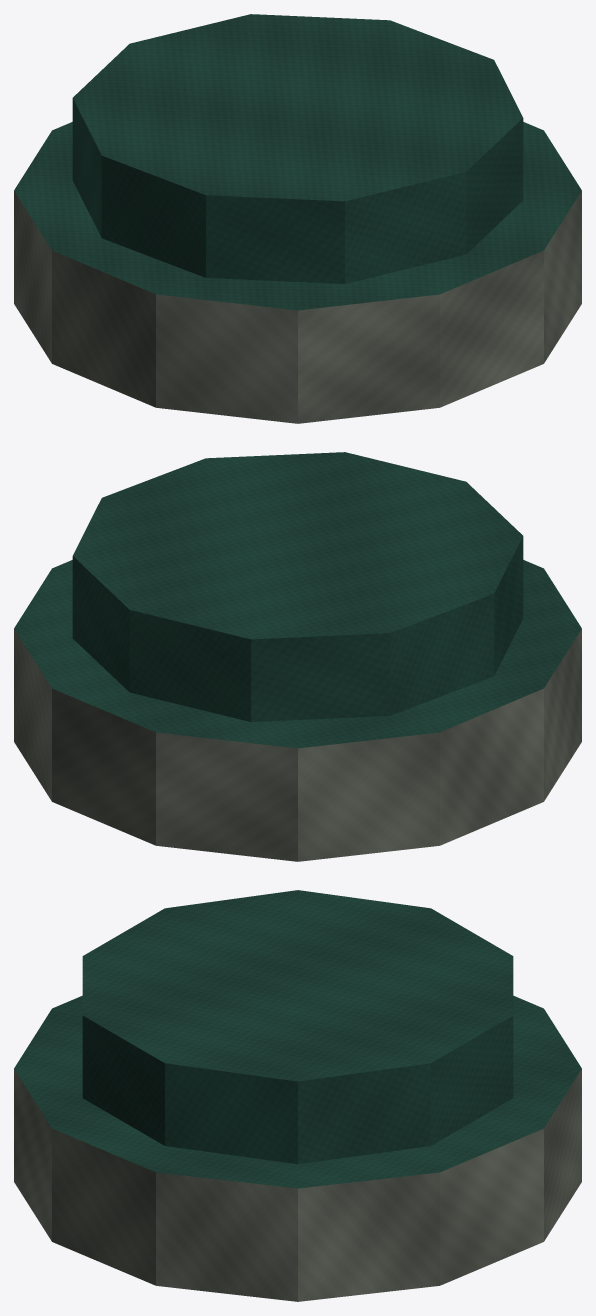
Rendered from prop_plaza_planter_LOD0.glb.
3 views of the same model, one above another, from view 1: azimuth 30°, elevation 25°; view 2: azimuth 150°, elevation 25°; view 3: azimuth 270°, elevation 25° (orthographic).
Visible parts, largest first — view 1: prop_plaza_planter__surface; view 2: prop_plaza_planter__surface; view 3: prop_plaza_planter__surface.
Part boxes in pixels (x1,y1,x2,y2): prop_plaza_planter__surface: [14, 14, 581, 423]; prop_plaza_planter__surface: [14, 452, 581, 861]; prop_plaza_planter__surface: [14, 890, 581, 1301].
Bounding box in the file's own units: 1.68 × 0.64 × 1.68.
2 materials, 2 textured.
